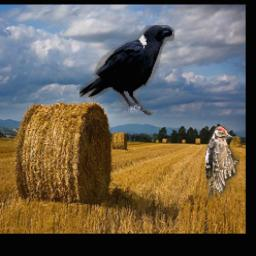Crow: (79, 26, 174, 116)
Woodpecker: (204, 127, 238, 200)
